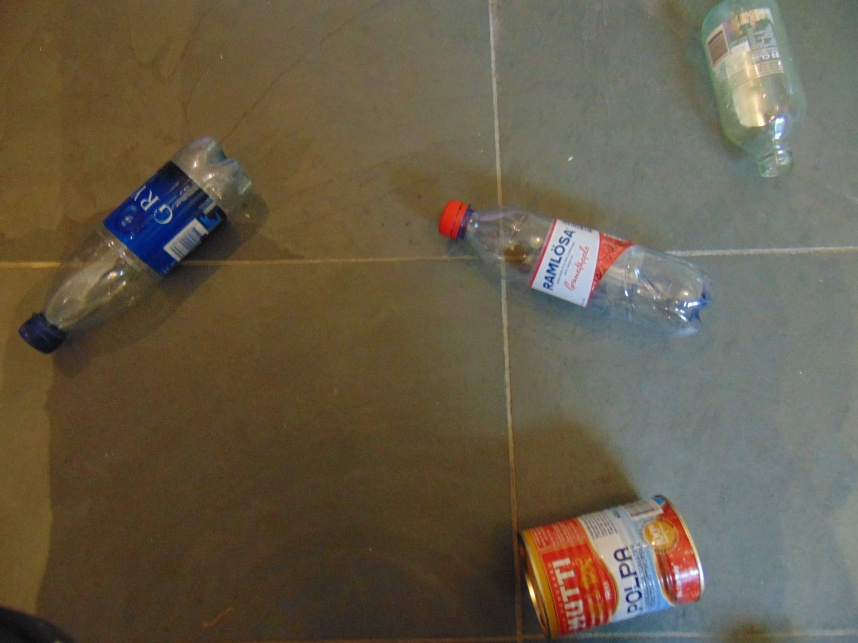glass_bottle: (700, 1, 810, 181)
metal_can: (518, 493, 705, 639)
plastic_bottle: (18, 134, 254, 357), (438, 199, 716, 337)
